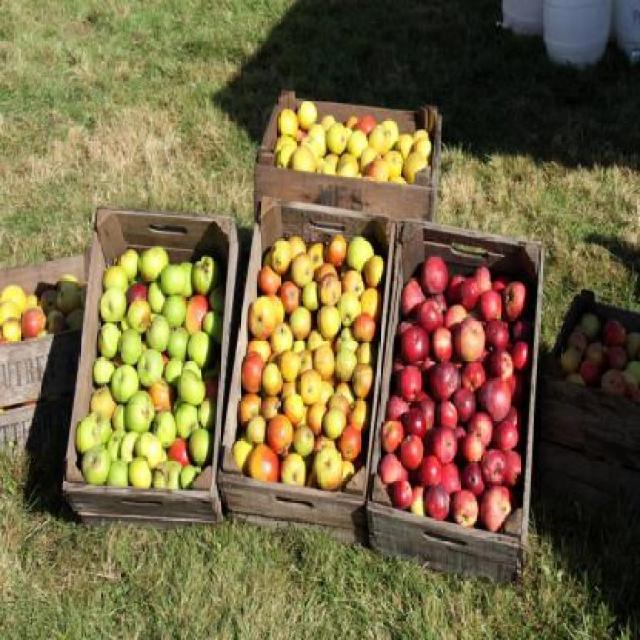Apple pie: (376, 253, 530, 532), (228, 236, 386, 495), (74, 249, 223, 491), (274, 101, 432, 184), (0, 281, 89, 407), (560, 308, 640, 407), (0, 270, 89, 342), (452, 487, 478, 527)
